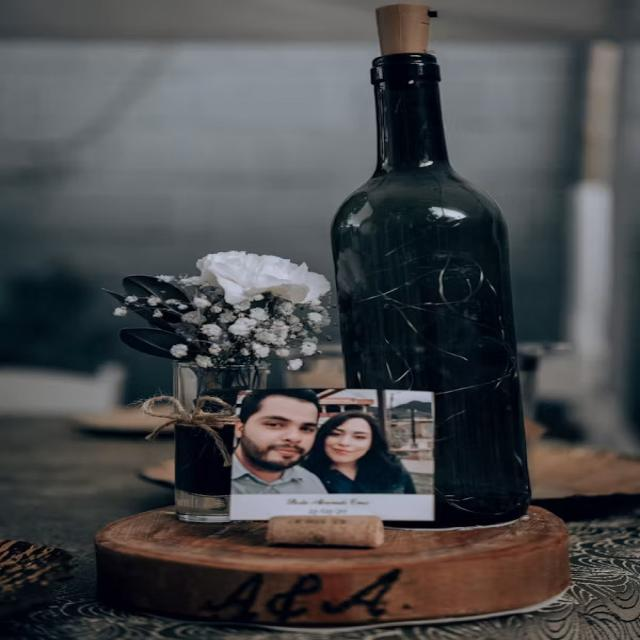Bottle: (332, 5, 530, 527)
